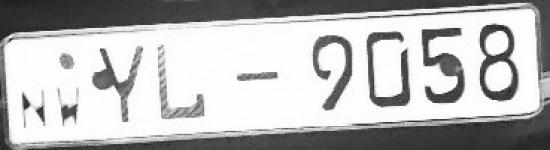-: (228, 63, 281, 92)
0: (356, 25, 417, 113)
5: (415, 22, 472, 109)
8: (474, 17, 524, 110)
9: (302, 30, 358, 114)
L: (149, 39, 211, 121)
N: (14, 86, 49, 132)
W: (49, 78, 85, 130)
Y: (95, 40, 148, 128)
